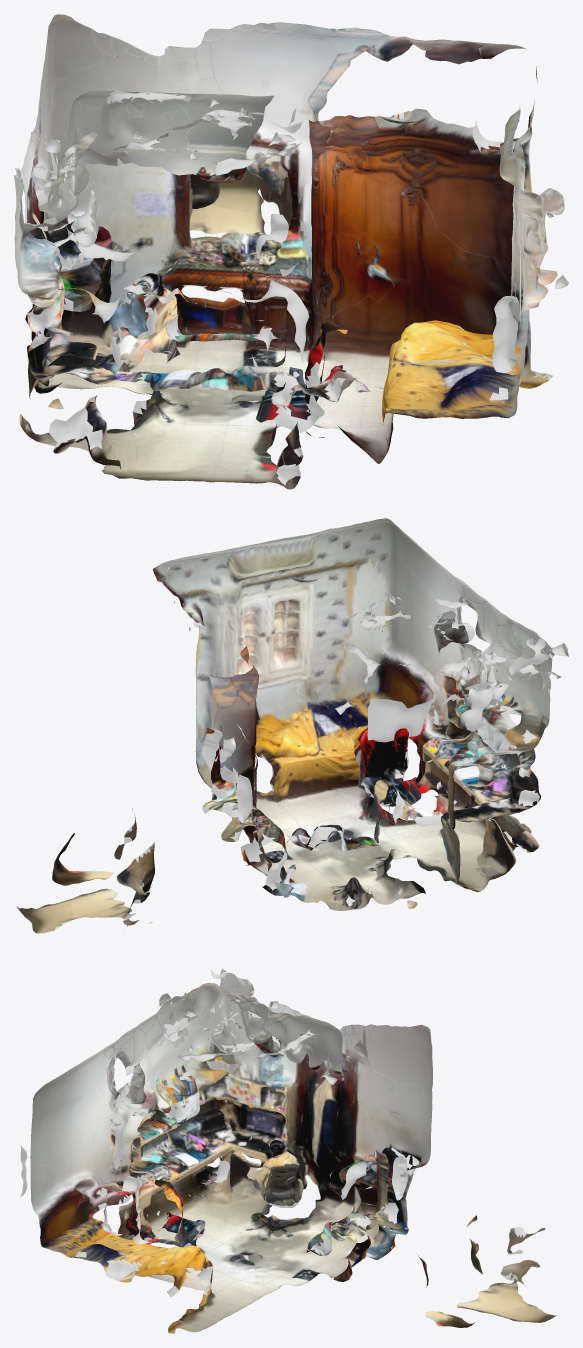
Rendered from moussa-house-textured.glb.
3 views of the same model, one above another, from view 1: azimuth 30°, elevation 25°; view 2: azimuth 150°, elevation 25°; view 3: azimuth 270°, elevation 25° (orthographic). The views are drawn at different scales.
Parts seen in each view (by area): view 1: TexturedMesh.obj; view 2: TexturedMesh.obj; view 3: TexturedMesh.obj.
Part boxes in pixels (bbox=[...]): TexturedMesh.obj: bbox=[14, 14, 568, 489]; TexturedMesh.obj: bbox=[16, 518, 568, 933]; TexturedMesh.obj: bbox=[20, 968, 556, 1333].
Bounding box in the file's own units: 5.56 × 3.31 × 7.47.
1 material, 1 textured.
